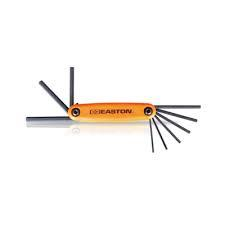wrench: (37, 79, 69, 111), (153, 113, 182, 144), (155, 111, 191, 134), (155, 107, 198, 123), (151, 114, 169, 151), (23, 114, 74, 124), (67, 64, 75, 107), (153, 102, 202, 109), (147, 116, 155, 154)
